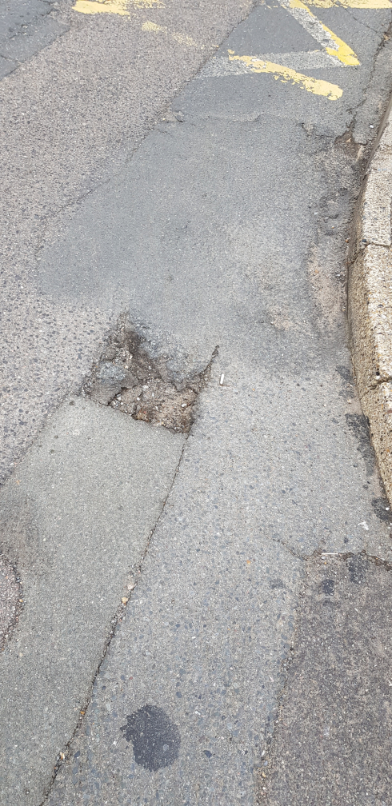pothole: (73, 310, 215, 437)
